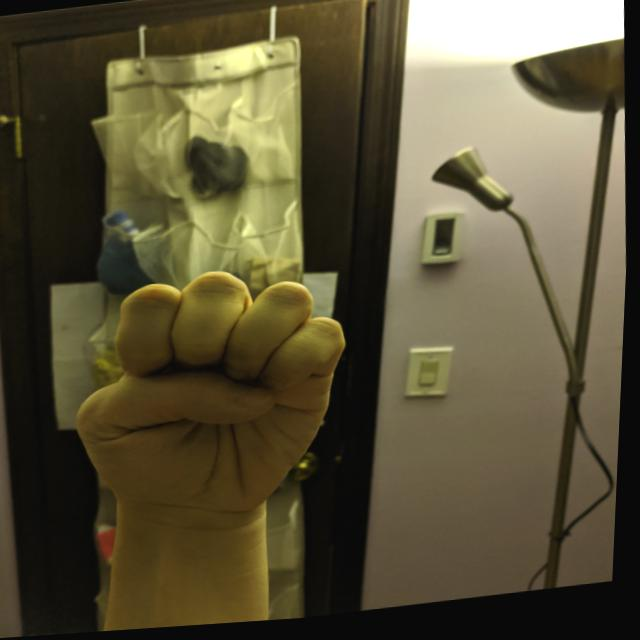E: (62, 256, 366, 541)
